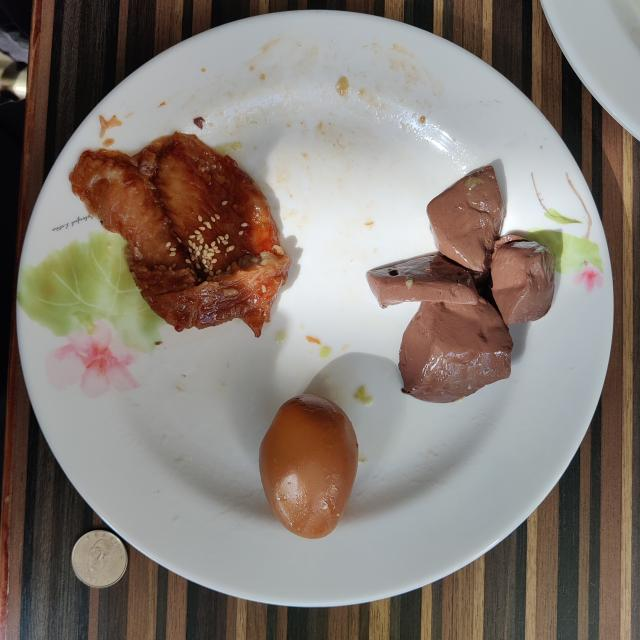Kabayaki sea bream fillet: (70, 132, 291, 336)
coin: (71, 530, 128, 589)
pig blood curd: (368, 165, 555, 402)
soy egg: (259, 394, 359, 539)
